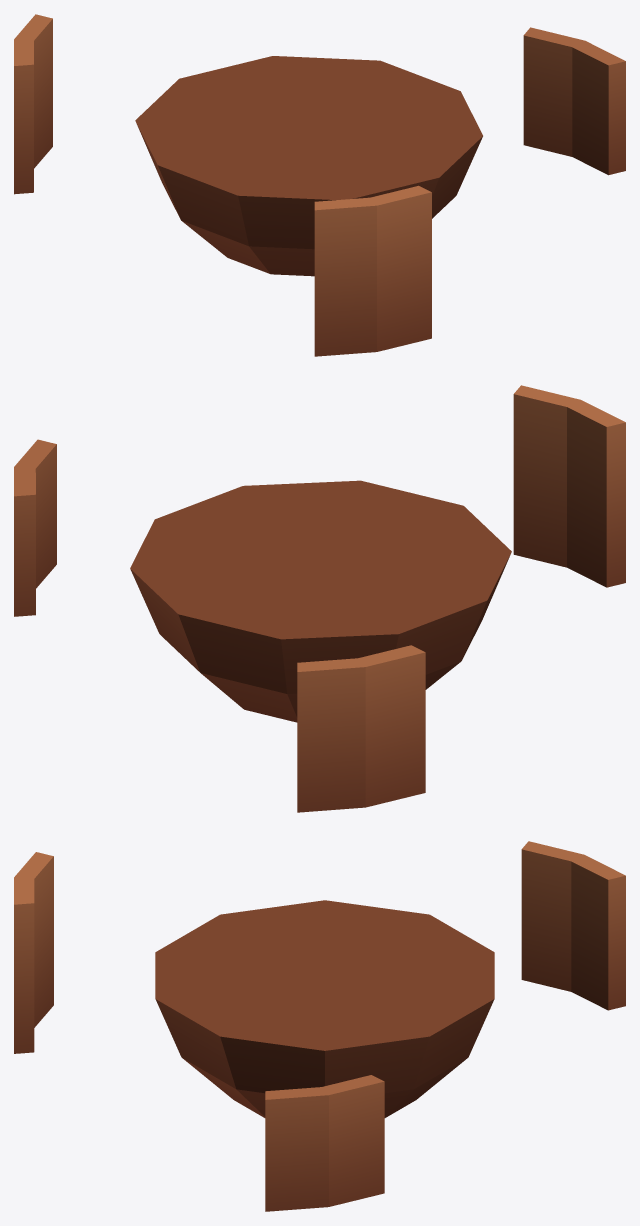
The model's file is PlayGround_Kit_Clay_Pot_Broken.fbx.
The picture shows the model from 3 angles, top to bottom: view 1: azimuth 30°, elevation 25°; view 2: azimuth 150°, elevation 25°; view 3: azimuth 270°, elevation 25°; orthographic projection. The views are drawn at different scales.
Visible parts, largest first — view 1: PlayGround_Kit_Clay_Pot_Broken_1, PlayGround_Kit_Clay_Pot_Broken_4, PlayGround_Kit_Clay_Pot_Broken_2, PlayGround_Kit_Clay_Pot_Broken_3; view 2: PlayGround_Kit_Clay_Pot_Broken_1, PlayGround_Kit_Clay_Pot_Broken_3, PlayGround_Kit_Clay_Pot_Broken_4, PlayGround_Kit_Clay_Pot_Broken_2; view 3: PlayGround_Kit_Clay_Pot_Broken_1, PlayGround_Kit_Clay_Pot_Broken_3, PlayGround_Kit_Clay_Pot_Broken_2, PlayGround_Kit_Clay_Pot_Broken_4.
Boxes of the visible parts, box(x1,y1,x2,y2) form: PlayGround_Kit_Clay_Pot_Broken_1: box(135, 56, 482, 276); PlayGround_Kit_Clay_Pot_Broken_4: box(314, 185, 431, 356); PlayGround_Kit_Clay_Pot_Broken_2: box(523, 27, 625, 175); PlayGround_Kit_Clay_Pot_Broken_3: box(14, 14, 52, 194); PlayGround_Kit_Clay_Pot_Broken_1: box(130, 480, 511, 722); PlayGround_Kit_Clay_Pot_Broken_3: box(297, 645, 425, 812); PlayGround_Kit_Clay_Pot_Broken_4: box(513, 385, 625, 587); PlayGround_Kit_Clay_Pot_Broken_2: box(14, 439, 56, 616); PlayGround_Kit_Clay_Pot_Broken_1: box(155, 900, 494, 1117); PlayGround_Kit_Clay_Pot_Broken_3: box(521, 841, 625, 1010); PlayGround_Kit_Clay_Pot_Broken_2: box(265, 1075, 384, 1211); PlayGround_Kit_Clay_Pot_Broken_4: box(14, 852, 53, 1053).
Bounding box in the file's own units: 0.8283 × 0.27 × 0.8921.
